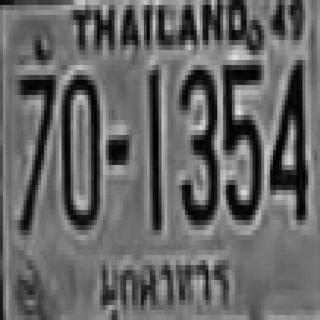N00: (60, 70, 98, 225)
N01: (148, 68, 160, 228)
N03: (178, 68, 216, 222)
N04: (267, 55, 305, 220)
N05: (222, 60, 260, 220)
N07: (16, 70, 54, 230)
P26: (95, 250, 238, 320)
